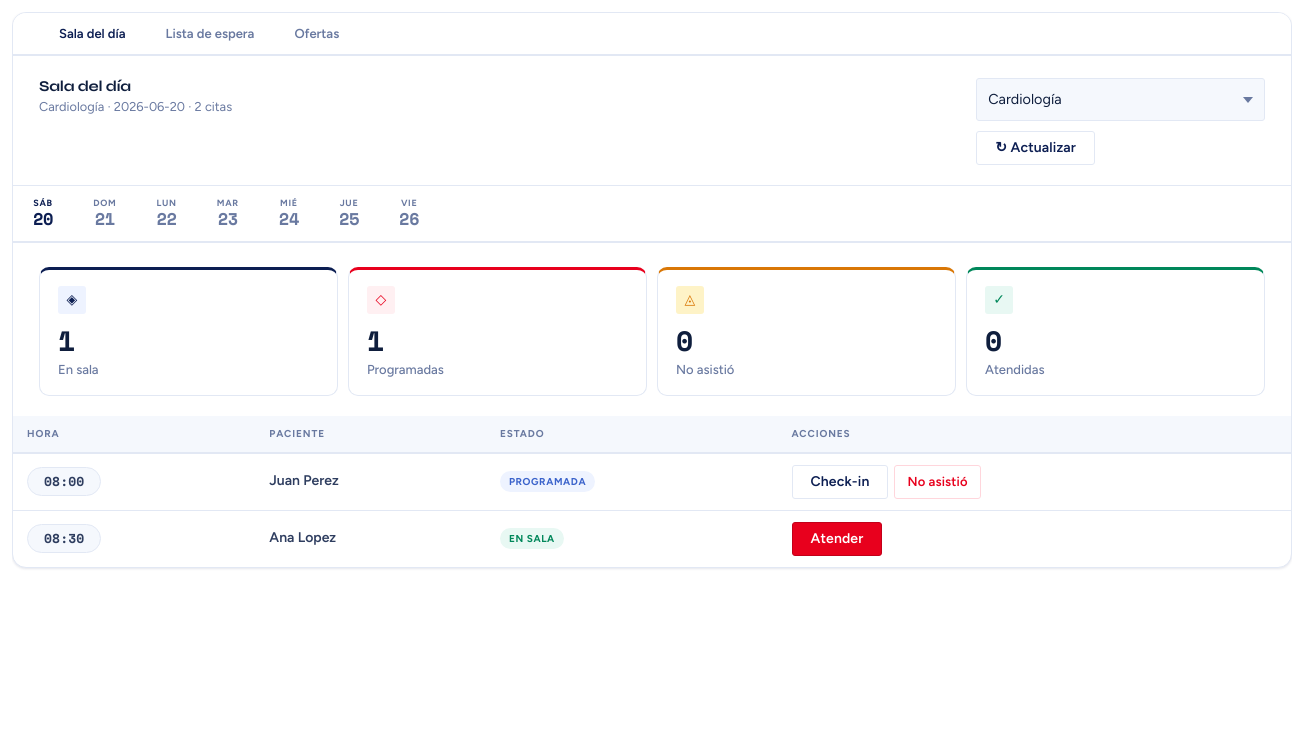
Test case: AdminPage › cambia a la pestaña de lista de espera y carga las solicitudes
Expected: the text "Juan Perez" is shown, [255,452,486,510]
Click the button "Lista de espera": {"x": 210, "y": 34} [146,13,274,54]
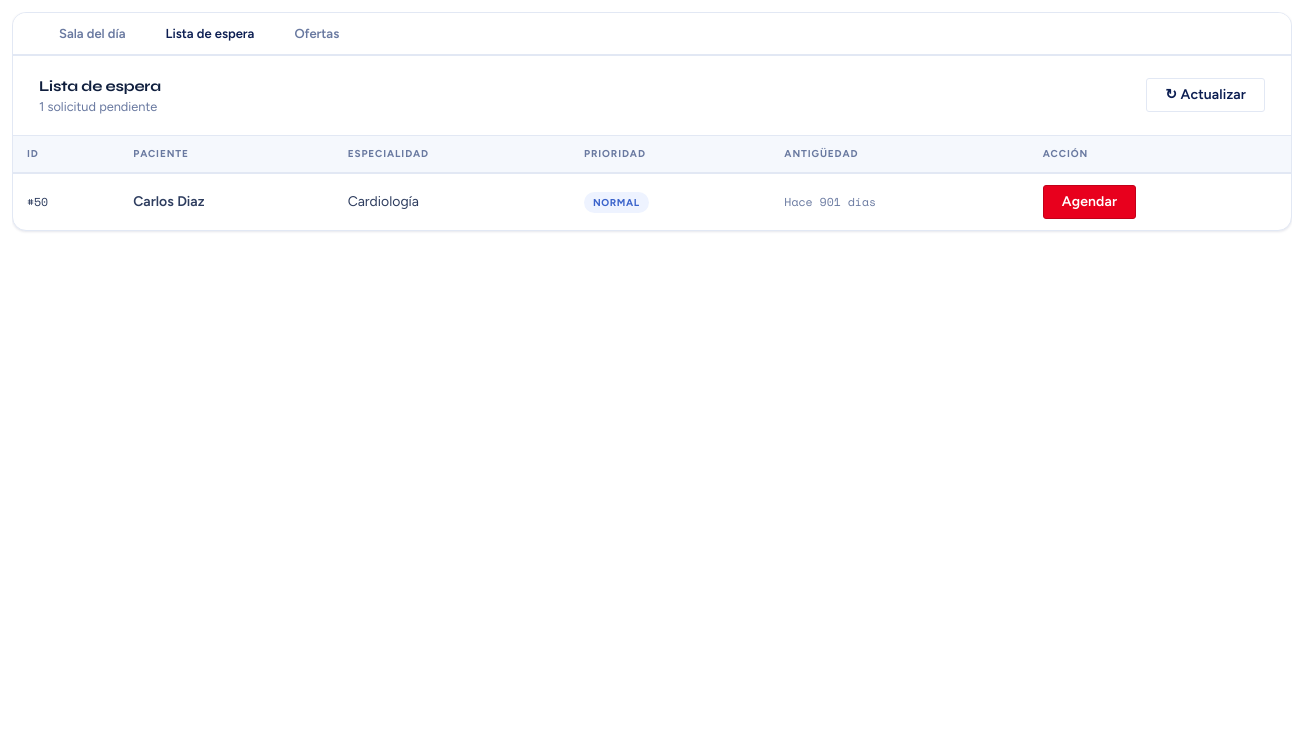
Expected: the text "Carlos Diaz" is shown, [119,173,334,230]
